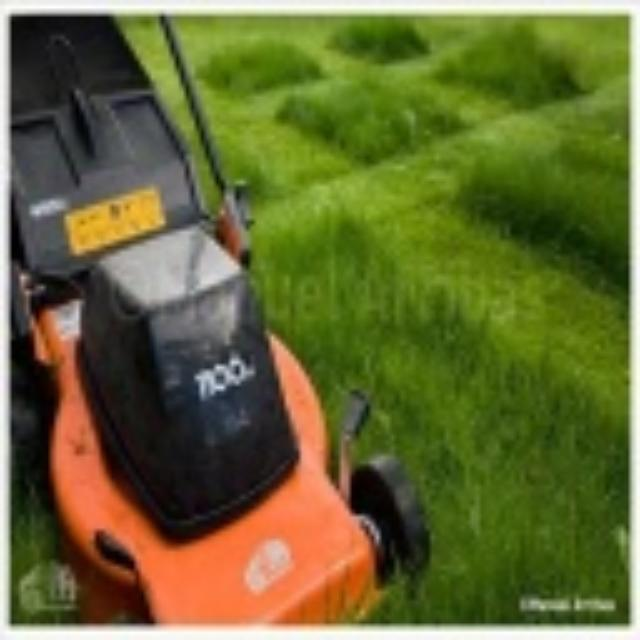Rotary-Mower: (6, 10, 430, 620)
